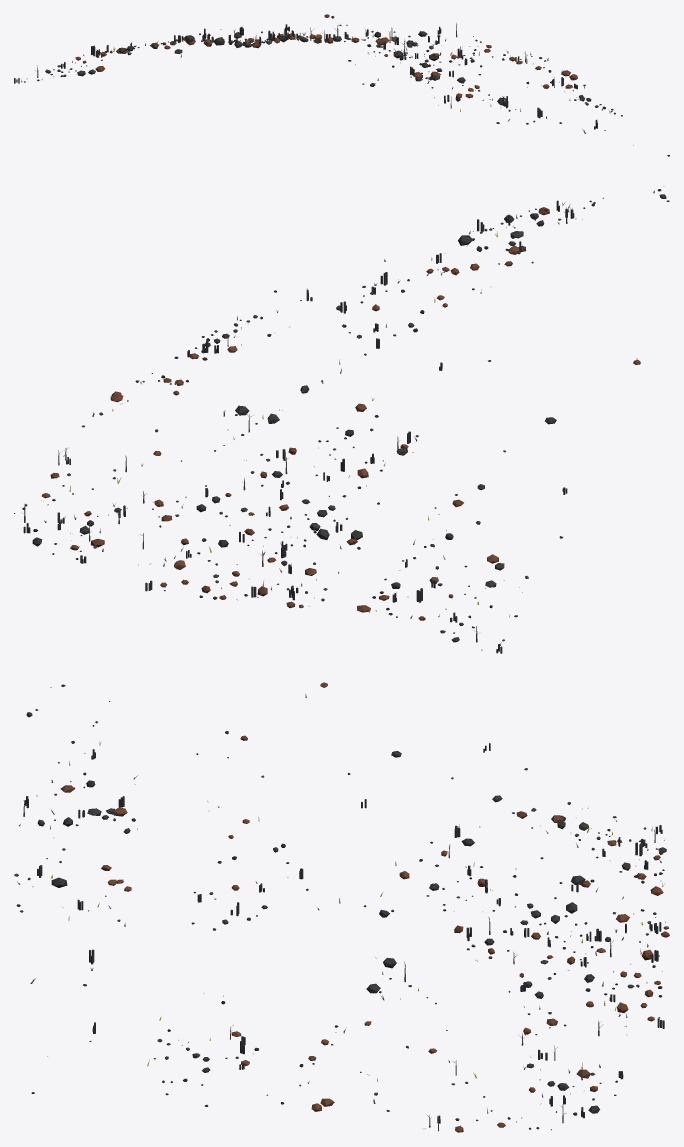
The model's file is ash_land_scatter_c21_28_lod1.glb.
3 renders of one model, top to bottom at view 1: azimuth 30°, elevation 25°; view 2: azimuth 150°, elevation 25°; view 3: azimuth 270°, elevation 25°, orthographic. The views are drawn at different scales.
Visible parts, largest first — view 1: ash_land_scatter_c21_28_lod1; view 2: ash_land_scatter_c21_28_lod1; view 3: ash_land_scatter_c21_28_lod1.
Boxes of the visible parts, <box> form: ash_land_scatter_c21_28_lod1: <box>14,14,669,156</box>; ash_land_scatter_c21_28_lod1: <box>14,186,669,653</box>; ash_land_scatter_c21_28_lod1: <box>14,682,669,1132</box>.
Bounding box in the file's own units: 256 × 109 × 258.
